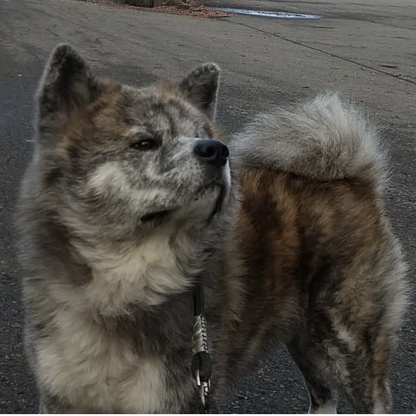akita: (13, 38, 412, 416)
